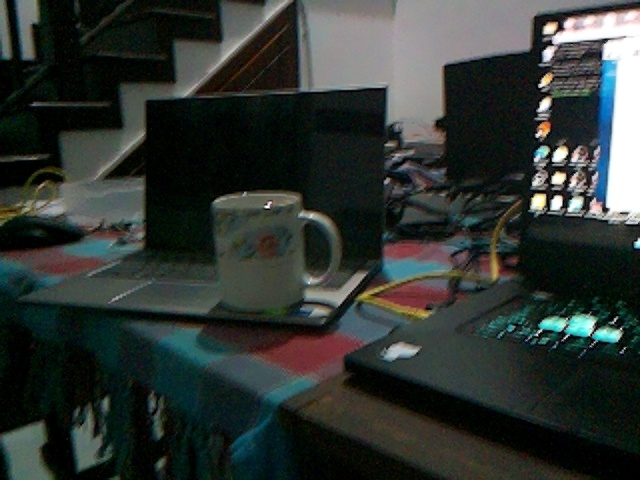mug: (206, 187, 342, 313)
